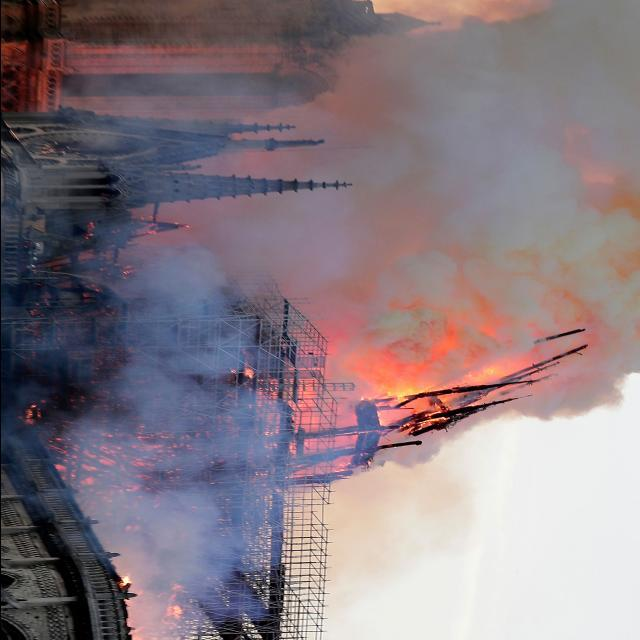Fire: (267, 334, 597, 474)
